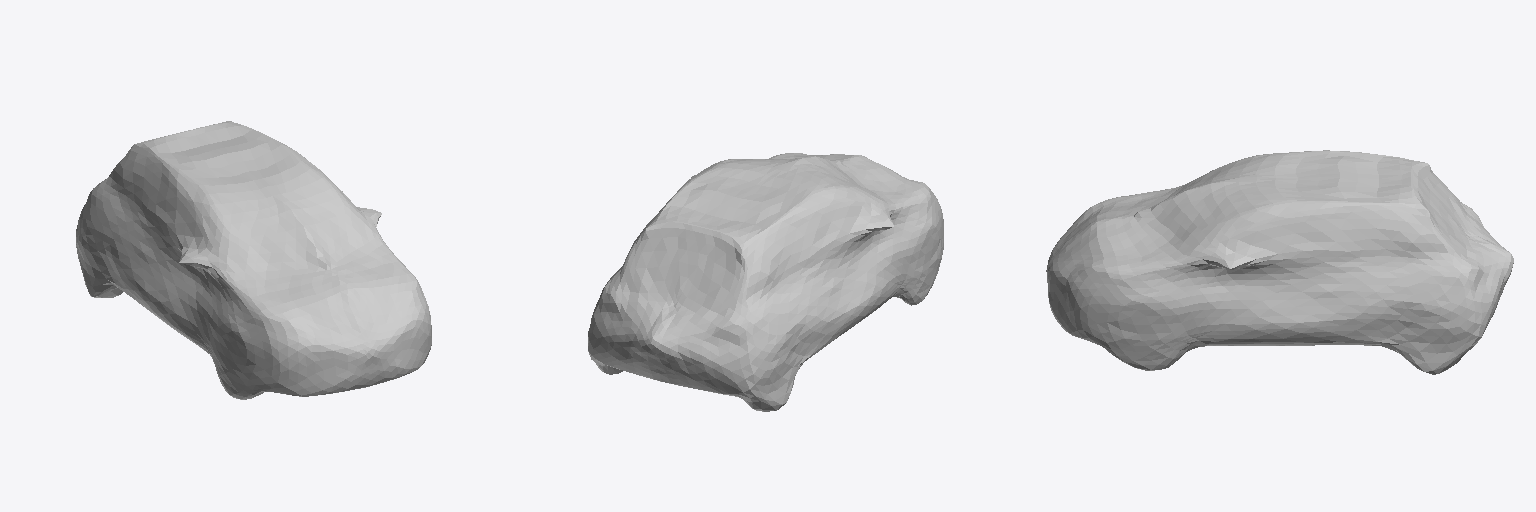
Rendered from car.obj.
3 renders of one model, left to right at view 1: azimuth 30°, elevation 25°; view 2: azimuth 150°, elevation 25°; view 3: azimuth 270°, elevation 25°, orthographic.
Bounding box in the file's own units: 1.08 × 0.8197 × 2.15.